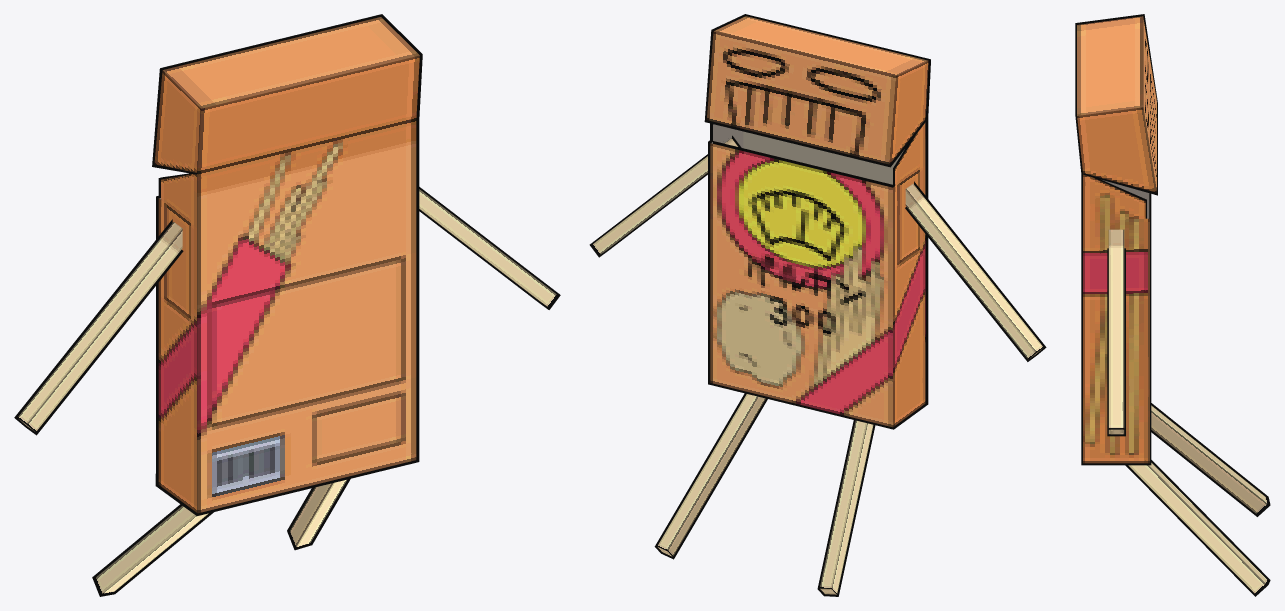
Rendered from ps2_save-icons_zatchbellmamodobattles-ntscj.glb.
3 views of the same model, side by side, from view 1: azimuth 30°, elevation 25°; view 2: azimuth 150°, elevation 25°; view 3: azimuth 270°, elevation 25° (orthographic). The views are drawn at different scales.
Parts seen in each view (by area): view 1: gash2.ico; view 2: gash2.ico; view 3: gash2.ico.
Part boxes in pixels (left/top/right/bottom): gash2.ico: left=14, top=14, right=560, bottom=596; gash2.ico: left=589, top=14, right=1046, bottom=596; gash2.ico: left=1075, top=14, right=1270, bottom=596.
Bounding box in the file's own units: 4.52 × 4.67 × 1.67.
Materials: 1 (1 with a texture image).
